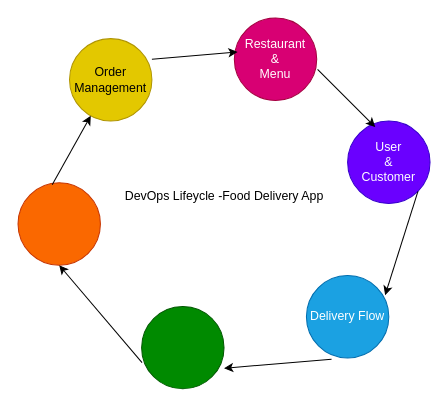
Image size: 448x407. Some labels were removed from this diagram. The centre of each missing label's shape, as x and y in pixels:
"Offers & Promotions" belongs at (x=182, y=347).
"Operations & Monitoring" belongs at (x=58, y=223).
